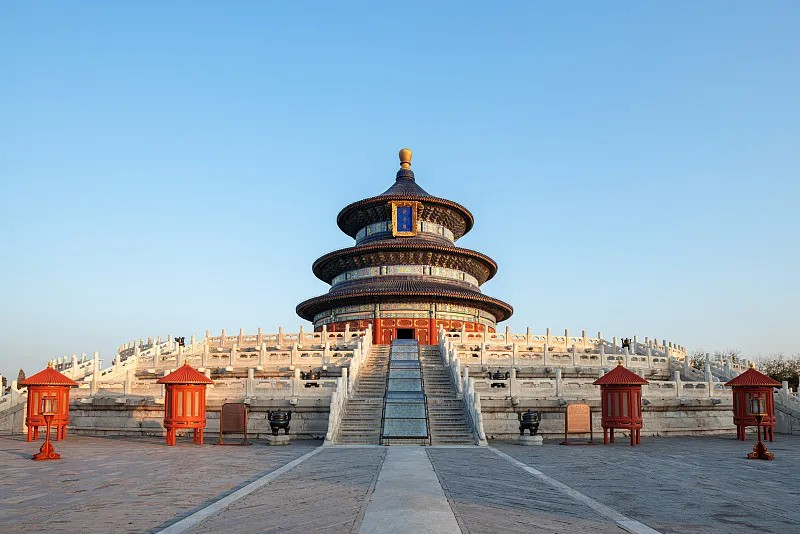Heaven: (296, 149, 514, 346)
